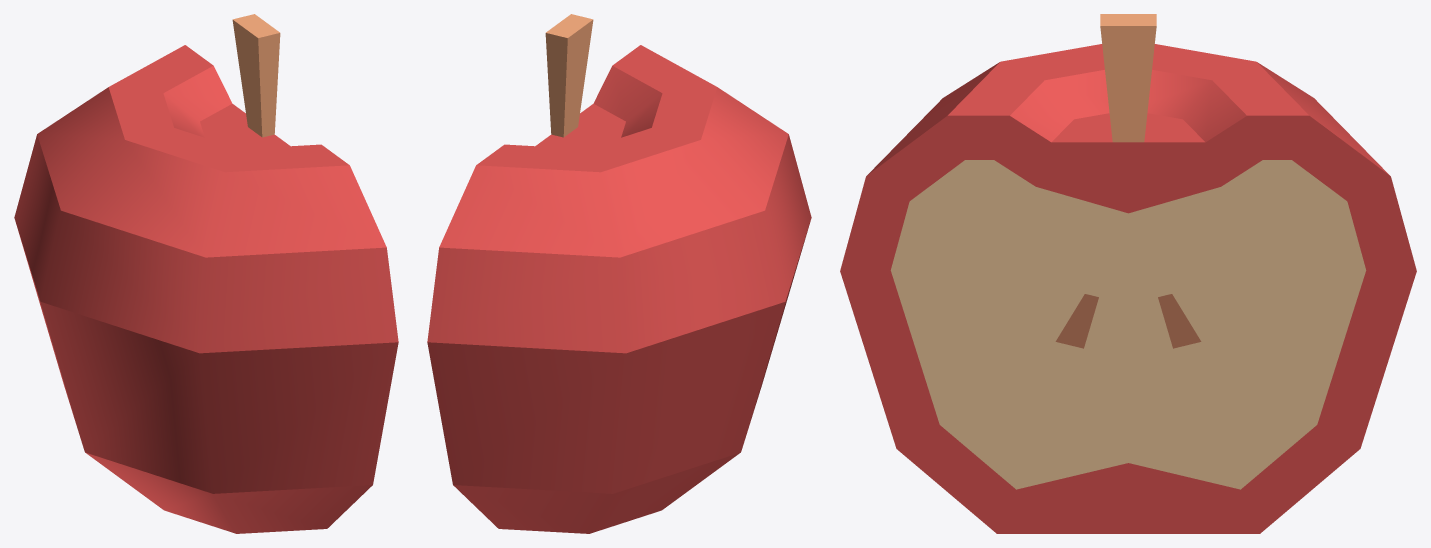
The model's file is appleHalf.obj.
3 views of the same model, side by side, from view 1: azimuth 30°, elevation 25°; view 2: azimuth 150°, elevation 25°; view 3: azimuth 270°, elevation 25° (orthographic). The views are drawn at different scales.
Parts seen in each view (by area): view 1: appleHalf; view 2: appleHalf; view 3: appleHalf.
Part boxes in pixels (x1,y1,x2,y2): appleHalf: [14, 14, 398, 533]; appleHalf: [427, 14, 811, 533]; appleHalf: [840, 14, 1416, 533].
Size of the model in its own units: 0.0981 by 0.1908 by 0.1963.
